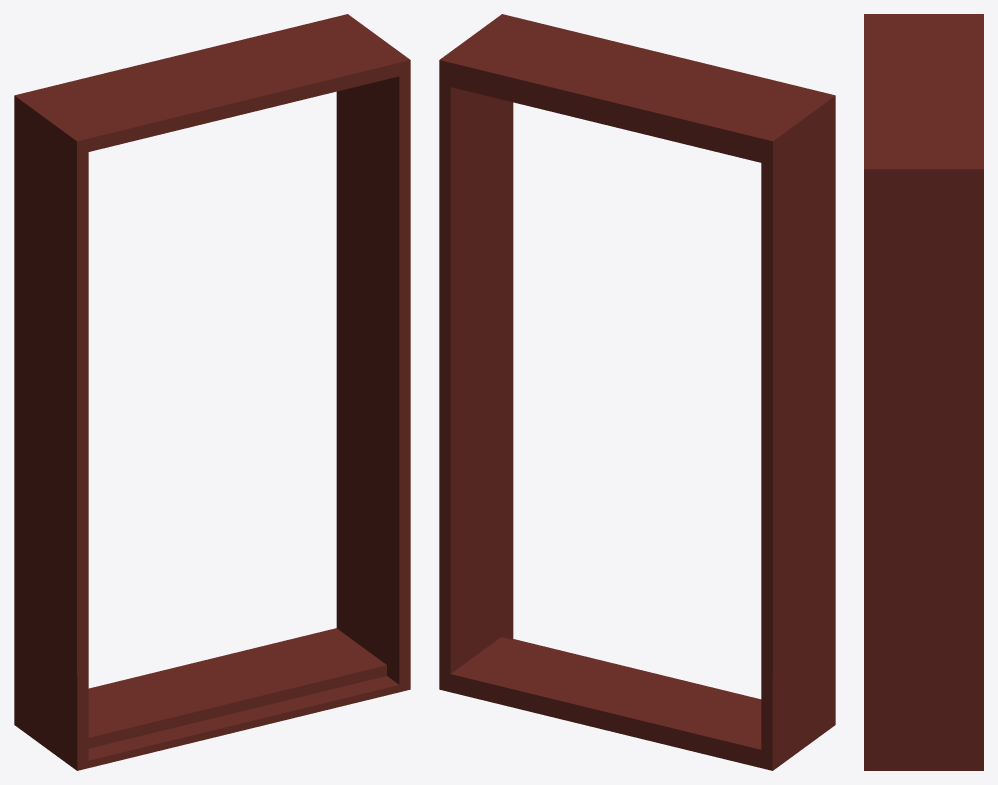
Rendered from Itr_Doorframe_03.FBX.
3 views of the same model, side by side, from view 1: azimuth 30°, elevation 25°; view 2: azimuth 150°, elevation 25°; view 3: azimuth 270°, elevation 25° (orthographic). The views are drawn at different scales.
Parts seen in each view (by area): view 1: Itr_Doorframe_03; view 2: Itr_Doorframe_03; view 3: Itr_Doorframe_03.
Boxes of the visible parts, x1,y1,x2,y2 form: Itr_Doorframe_03: [14, 14, 410, 770]; Itr_Doorframe_03: [439, 14, 835, 770]; Itr_Doorframe_03: [864, 14, 983, 770].
Bounding box in the file's own units: 46.95 × 84.65 × 15.3.
